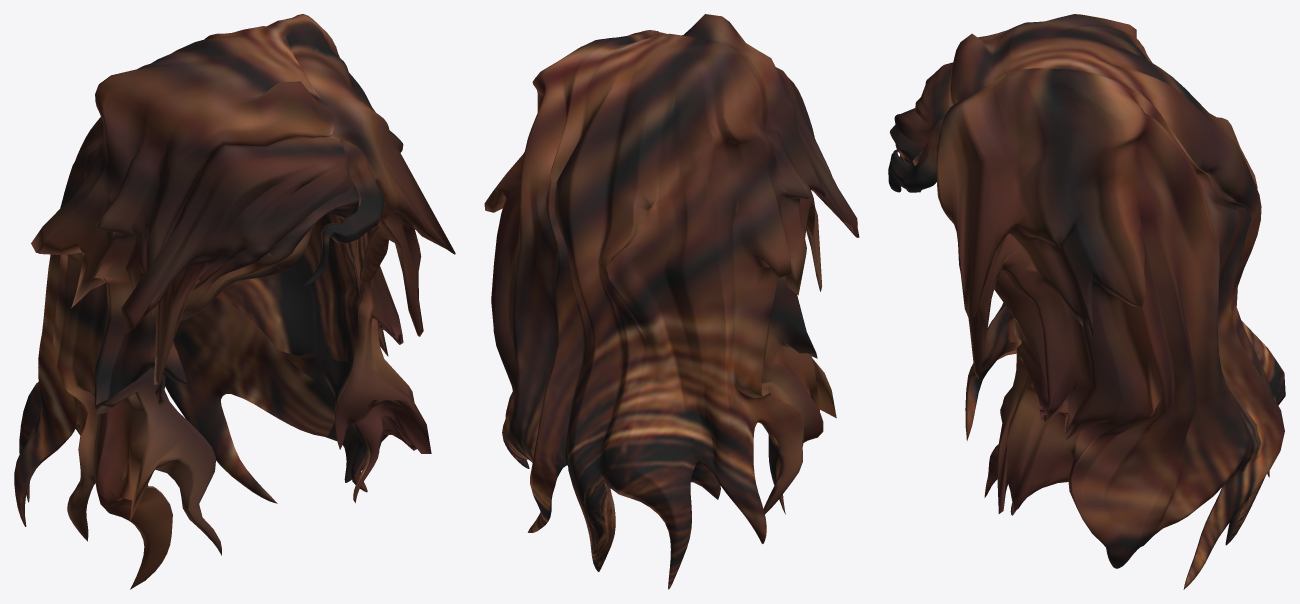
The model's file is hair.fbx.
The picture shows the model from 3 angles, left to right: view 1: azimuth 30°, elevation 25°; view 2: azimuth 150°, elevation 25°; view 3: azimuth 270°, elevation 25°; orthographic projection. The views are drawn at different scales.
Parts seen in each view (by area): view 1: hair; view 2: hair; view 3: hair.
Boxes of the visible parts, left/top/right/bottom form: hair: left=14, top=14, right=455, bottom=589; hair: left=484, top=14, right=859, bottom=589; hair: left=888, top=14, right=1285, bottom=589.
Bounding box in the file's own units: 19.18 × 28.76 × 20.36.
